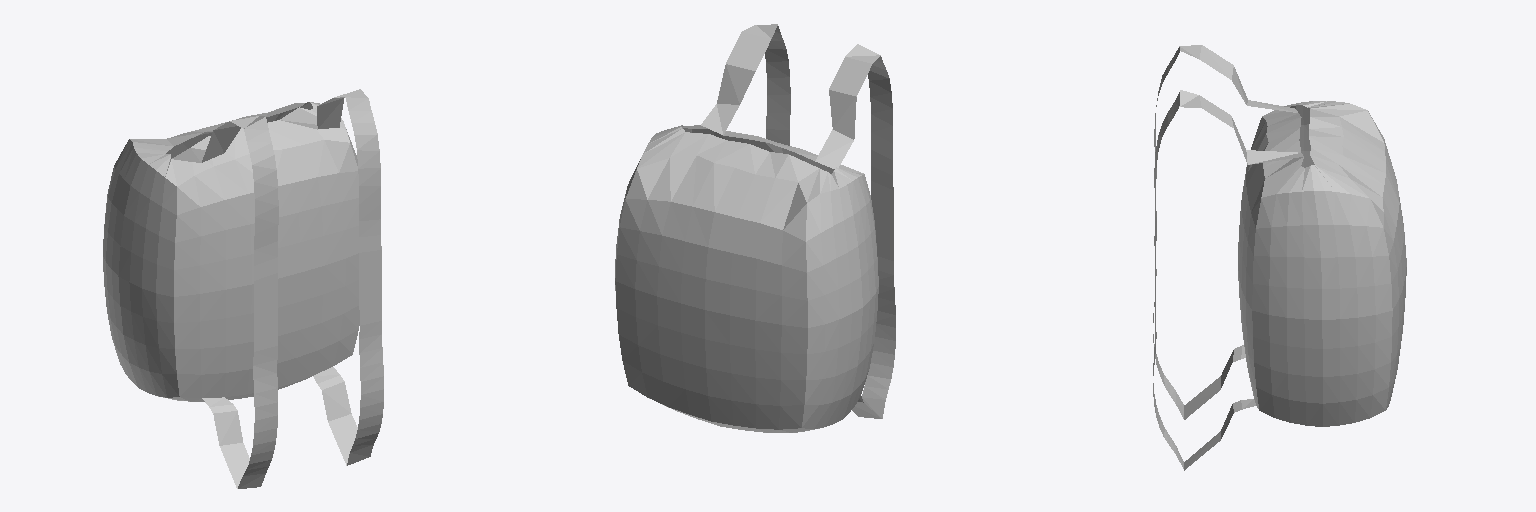
Rendered from bag_with_smallopening2.obj.
3 renders of one model, left to right at view 1: azimuth 30°, elevation 25°; view 2: azimuth 150°, elevation 25°; view 3: azimuth 270°, elevation 25°, orthographic.
Parts seen in each view (by area): view 1: backpack_1.002; view 2: backpack_1.002; view 3: backpack_1.002.
Part boxes in pixels (left/top/right/bottom): backpack_1.002: left=103, top=89, right=383, bottom=488; backpack_1.002: left=615, top=24, right=895, bottom=432; backpack_1.002: left=1153, top=45, right=1406, bottom=470.
Bounding box in the file's own units: 0.7387 × 1.13 × 0.6981.